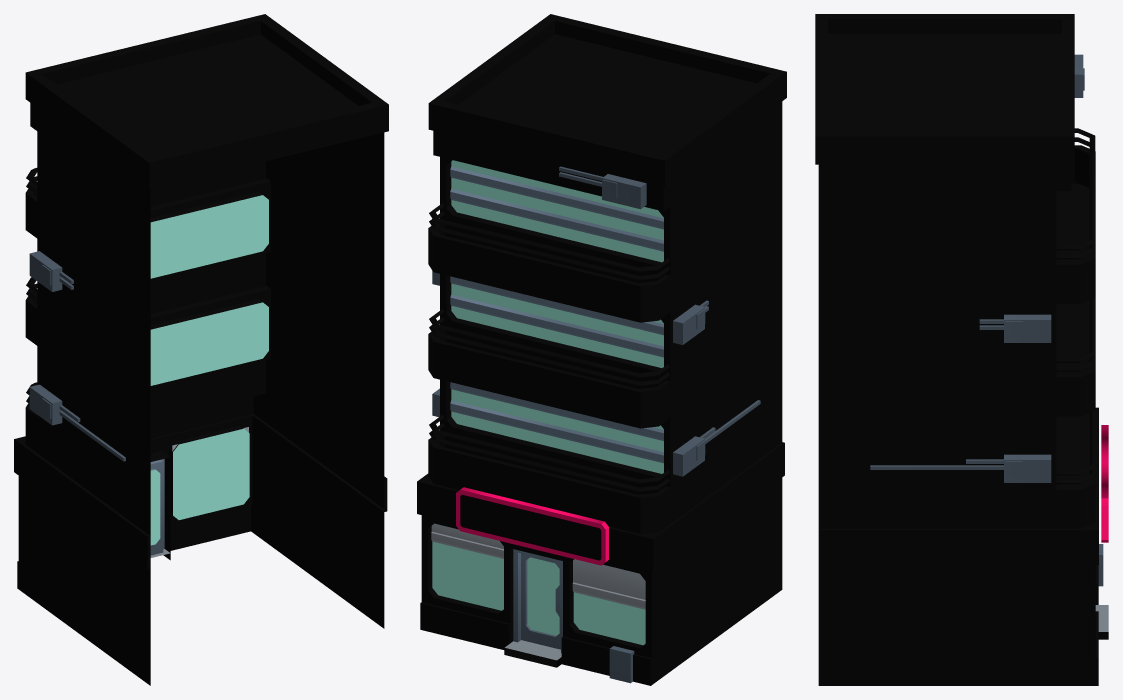
Rendered from Comercio_Edificio_03.FBX.
The picture shows the model from 3 angles, left to right: view 1: azimuth 30°, elevation 25°; view 2: azimuth 150°, elevation 25°; view 3: azimuth 270°, elevation 25°; orthographic projection. The views are drawn at different scales.
Parts seen in each view (by area): view 1: Comercio_Edificio_03; view 2: Comercio_Edificio_03; view 3: Comercio_Edificio_03.
Boxes of the visible parts, x1=… form: Comercio_Edificio_03: x1=14, y1=14, x2=388, y2=685; Comercio_Edificio_03: x1=417, y1=14, x2=786, y2=685; Comercio_Edificio_03: x1=815, y1=14, x2=1108, y2=685.
Size of the model in its own units: 867 by 820 by 1697.
